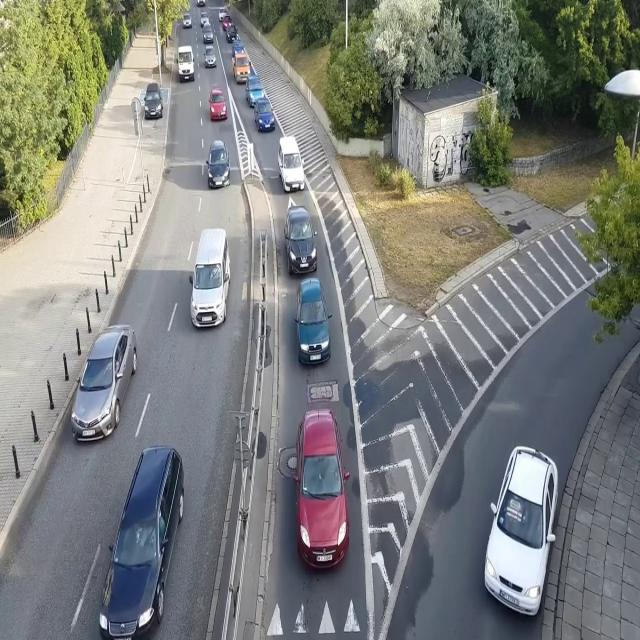car: (98, 445, 186, 640), (482, 444, 560, 620), (294, 410, 350, 571), (71, 319, 138, 444), (294, 278, 332, 366), (284, 207, 318, 278), (206, 139, 232, 190), (142, 81, 164, 121), (253, 98, 275, 133), (243, 74, 265, 107), (208, 89, 228, 121), (203, 46, 217, 68), (202, 24, 214, 44), (225, 26, 238, 42), (232, 40, 245, 56), (221, 14, 232, 29), (182, 14, 193, 29), (200, 11, 210, 27), (218, 7, 226, 21), (196, 0, 205, 7)
truck: (231, 54, 251, 85)
van: (190, 226, 231, 331), (278, 136, 306, 191), (176, 46, 196, 83)
